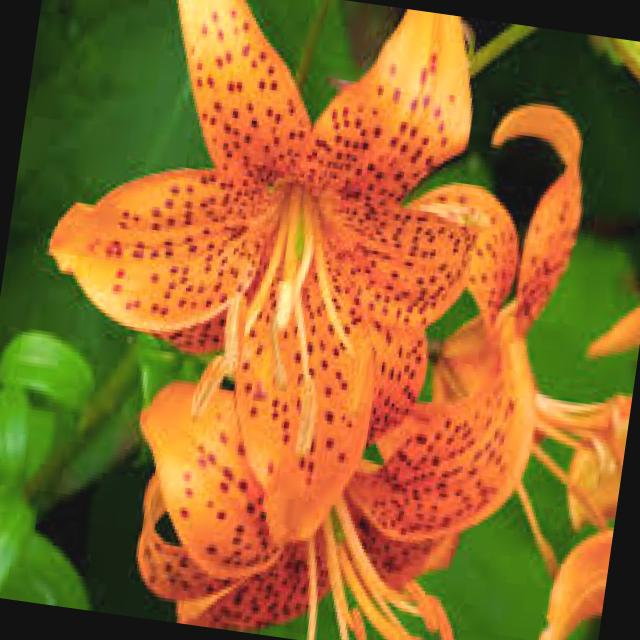lily: (0, 0, 523, 501)
